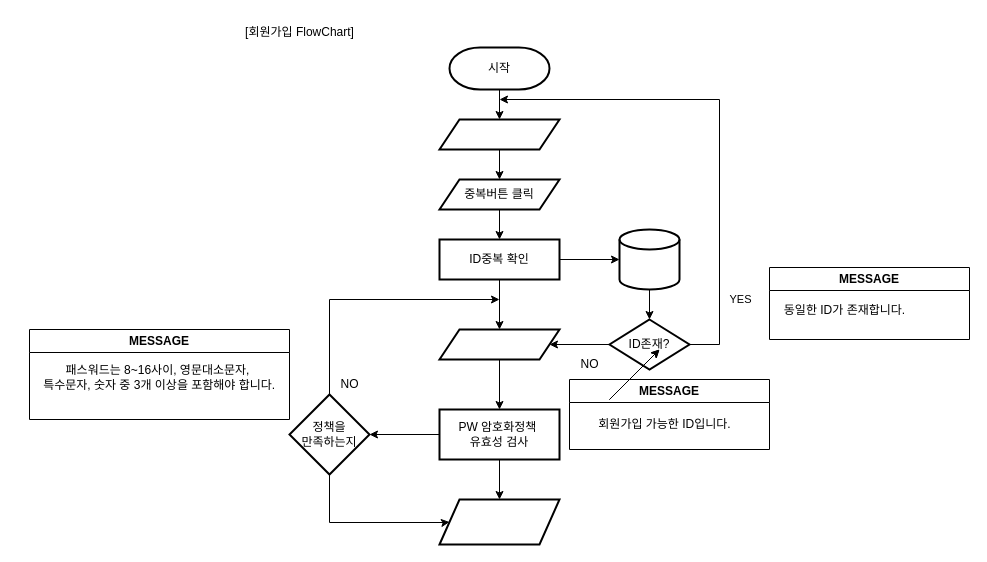
This 987x562 diagram has some shape labels left out. Each missing label, with the box of its shape:
ID입력: (438, 118, 560, 150)
PW 다시 입력: (438, 498, 560, 545)
PW입력: (438, 328, 560, 360)
회원Tbl: (618, 228, 680, 290)
